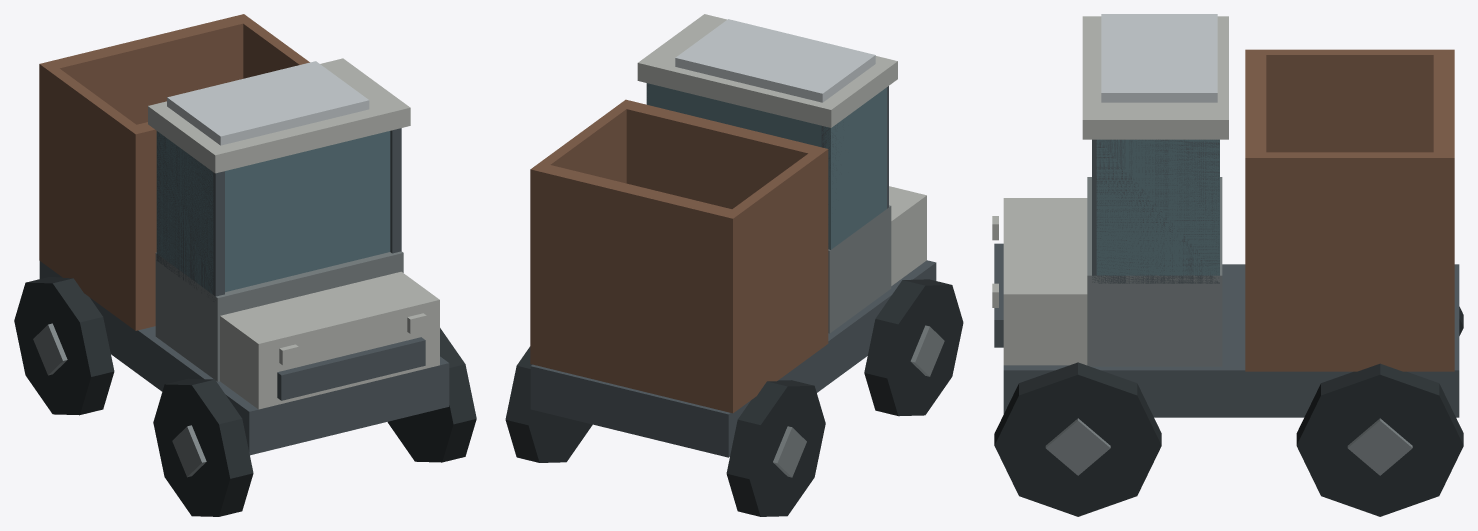
File: ore_truck.glb
3 renders of one model, left to right at view 1: azimuth 30°, elevation 25°; view 2: azimuth 150°, elevation 25°; view 3: azimuth 270°, elevation 25°, orthographic. The views are drawn at different scales.
Parts seen in each view (by area): view 1: ore_truck; view 2: ore_truck; view 3: ore_truck.
Part boxes in pixels (left/top/right/bottom): ore_truck: left=14, top=14, right=476, bottom=516; ore_truck: left=505, top=14, right=963, bottom=516; ore_truck: left=992, top=14, right=1463, bottom=516.
Bounding box in the file's own units: 1.96 × 2.65 × 2.88.
